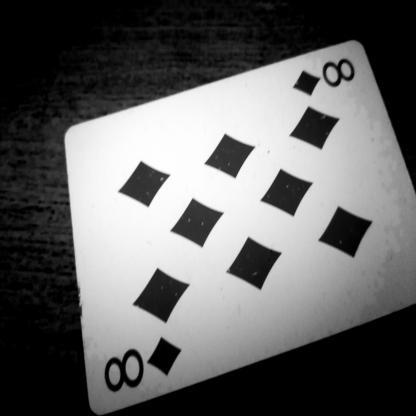8D: (97, 328, 189, 401), (278, 46, 369, 112)
